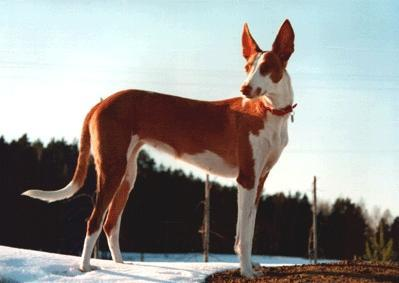Ibizan_hound: (20, 17, 297, 278)
